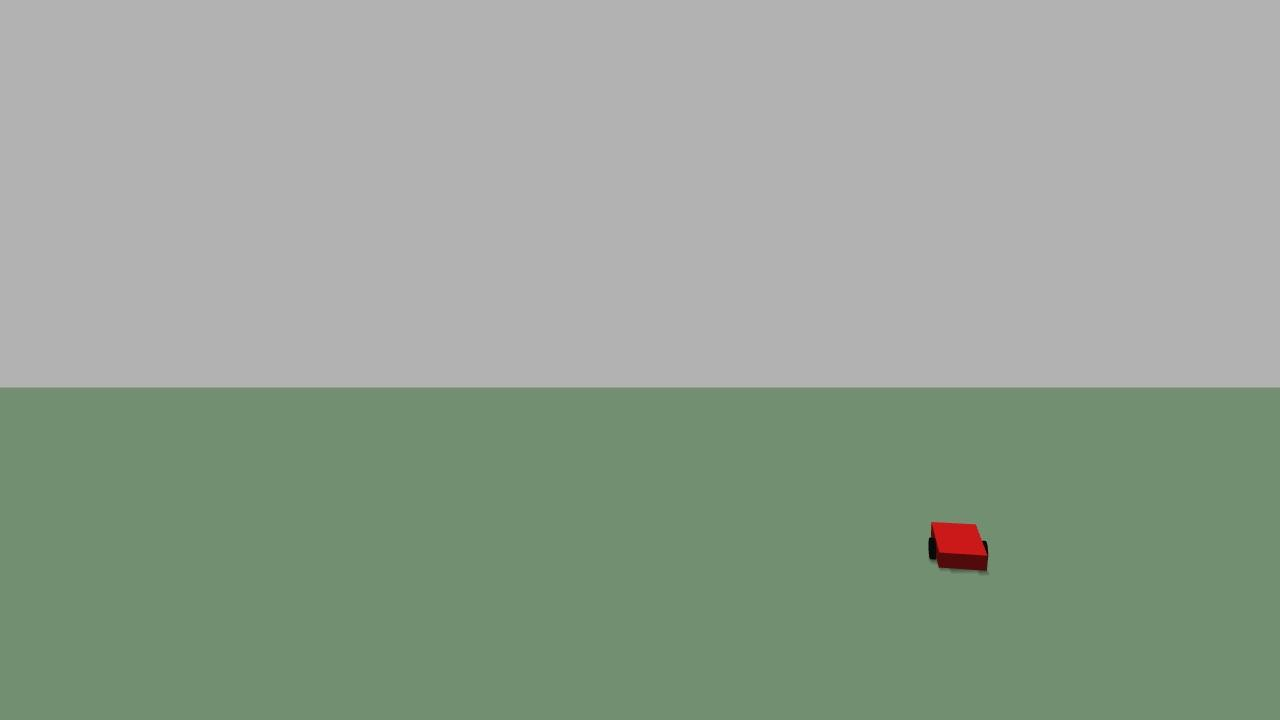ground_vehicle: (919, 505, 1005, 588)
